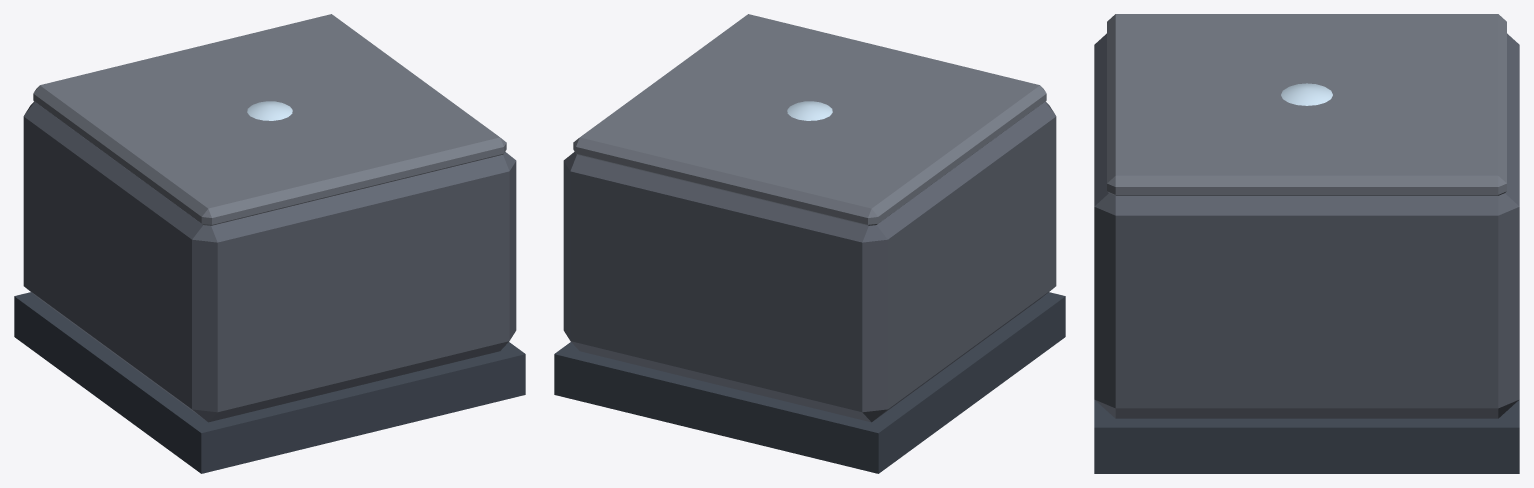
The model's file is dungeon-kit.glb.
3 views of the same model, side by side, from view 1: azimuth 30°, elevation 25°; view 2: azimuth 150°, elevation 25°; view 3: azimuth 270°, elevation 25° (orthographic). The views are drawn at different scales.
Parts seen in each view (by area): view 1: TileWall, WallCap, StairsBase, HeroHead; view 2: TileWall, WallCap, StairsBase, HeroHead; view 3: TileWall, WallCap, StairsBase, HeroHead.
Boxes of the visible parts, box(x1,y1,x2,y2) form: TileWall: box(23, 101, 516, 422); WallCap: box(33, 14, 506, 225); StairsBase: box(14, 292, 525, 473); HeroHead: box(247, 101, 292, 120); TileWall: box(563, 101, 1056, 422); WallCap: box(573, 14, 1046, 225); StairsBase: box(554, 292, 1065, 473); HeroHead: box(787, 101, 832, 120); TileWall: box(1094, 33, 1519, 418); WallCap: box(1107, 14, 1506, 195); StairsBase: box(1094, 400, 1519, 473); HeroHead: box(1281, 83, 1332, 105).
Bounding box in the file's own units: 1 × 0.765 × 1.
